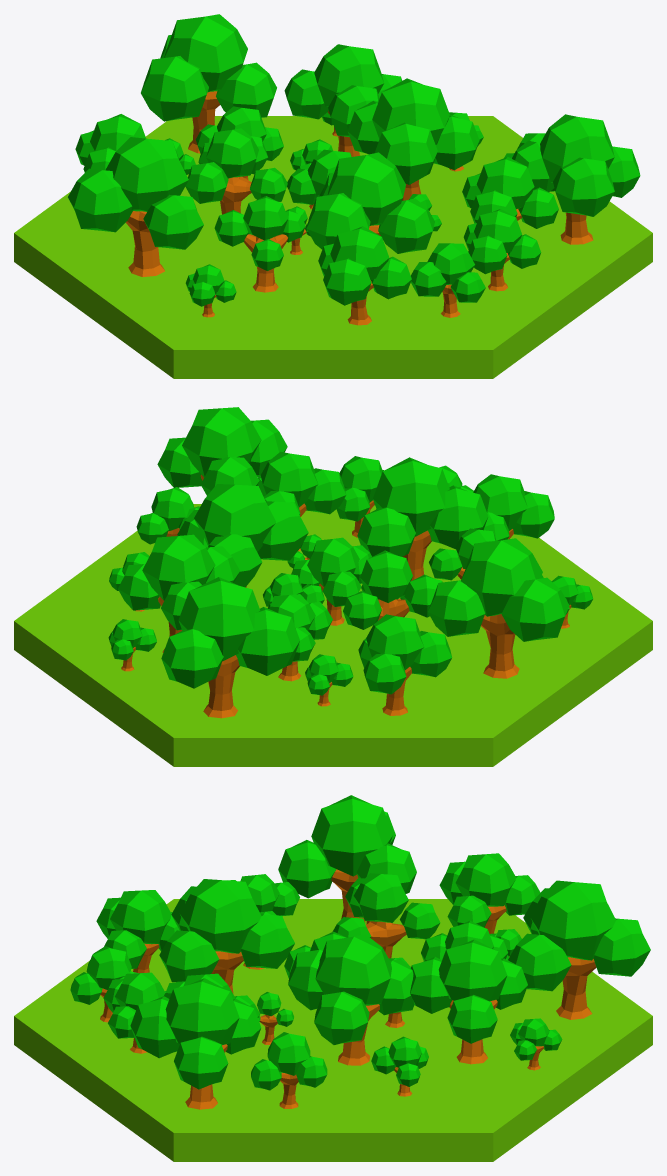
Rendered from Forest.fbx.
The picture shows the model from 3 angles, top to bottom: view 1: azimuth 30°, elevation 25°; view 2: azimuth 150°, elevation 25°; view 3: azimuth 270°, elevation 25°; orthographic projection.
Visible parts, largest first — view 1: Cube.015; view 2: Cube.015; view 3: Cube.015.
Part boxes in pixels (x1,y1,x2,y2): Cube.015: (14, 14, 652, 378); Cube.015: (14, 407, 652, 766); Cube.015: (14, 795, 652, 1161).
Size of the model in its own units: 175 by 55.15 by 200.
